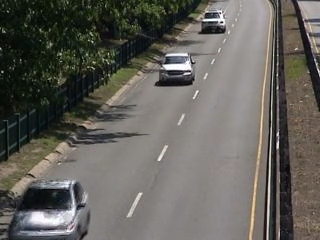car: (7, 174, 94, 240), (159, 50, 200, 87), (199, 7, 230, 37)
